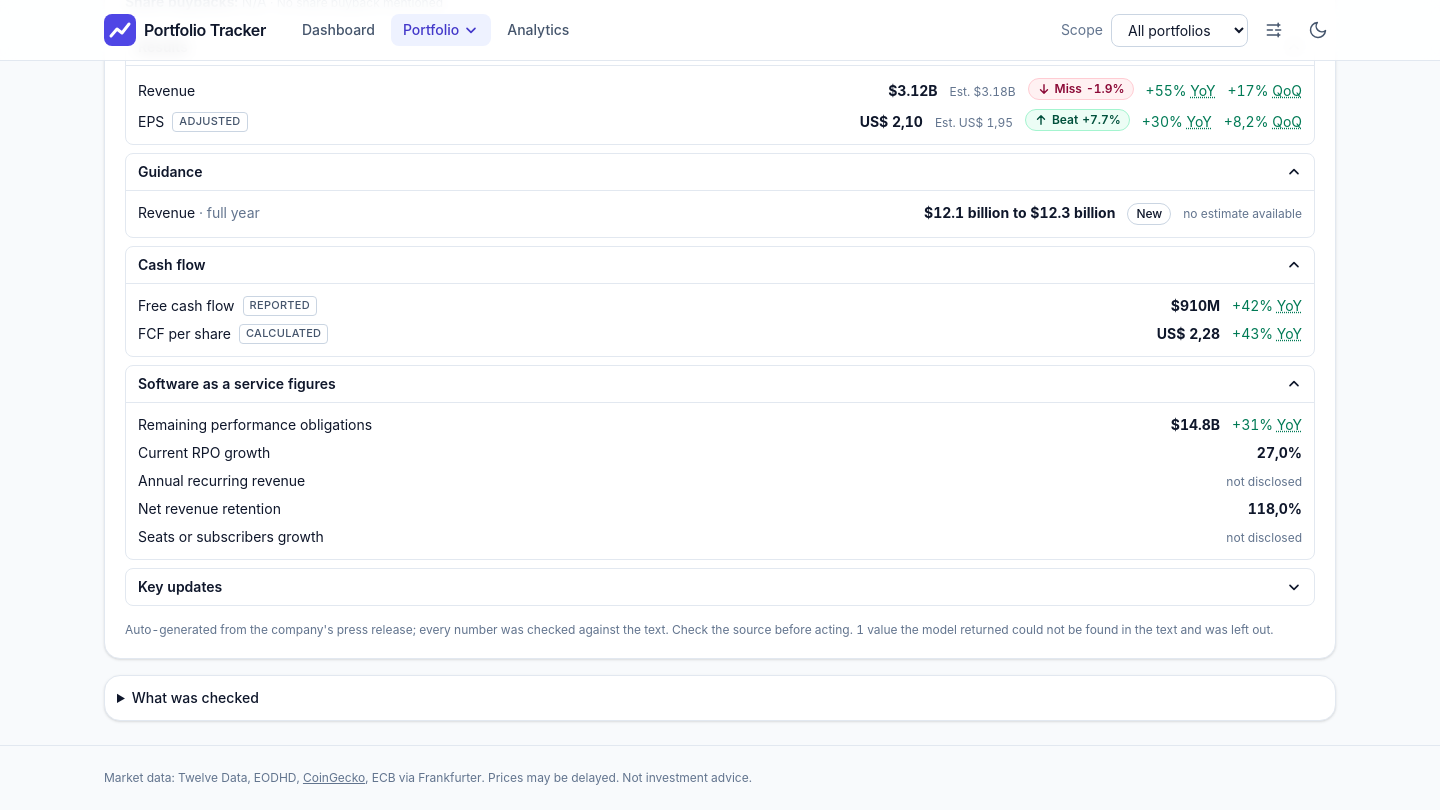
Scenario: the page › shows the invented consensus of the demo with its source, range and analysts, and how many companies have it
(page scrolled)
Click the heading "What was checked": {"x": 195, "y": 698} [132,689,259,706]
(page scrolled)
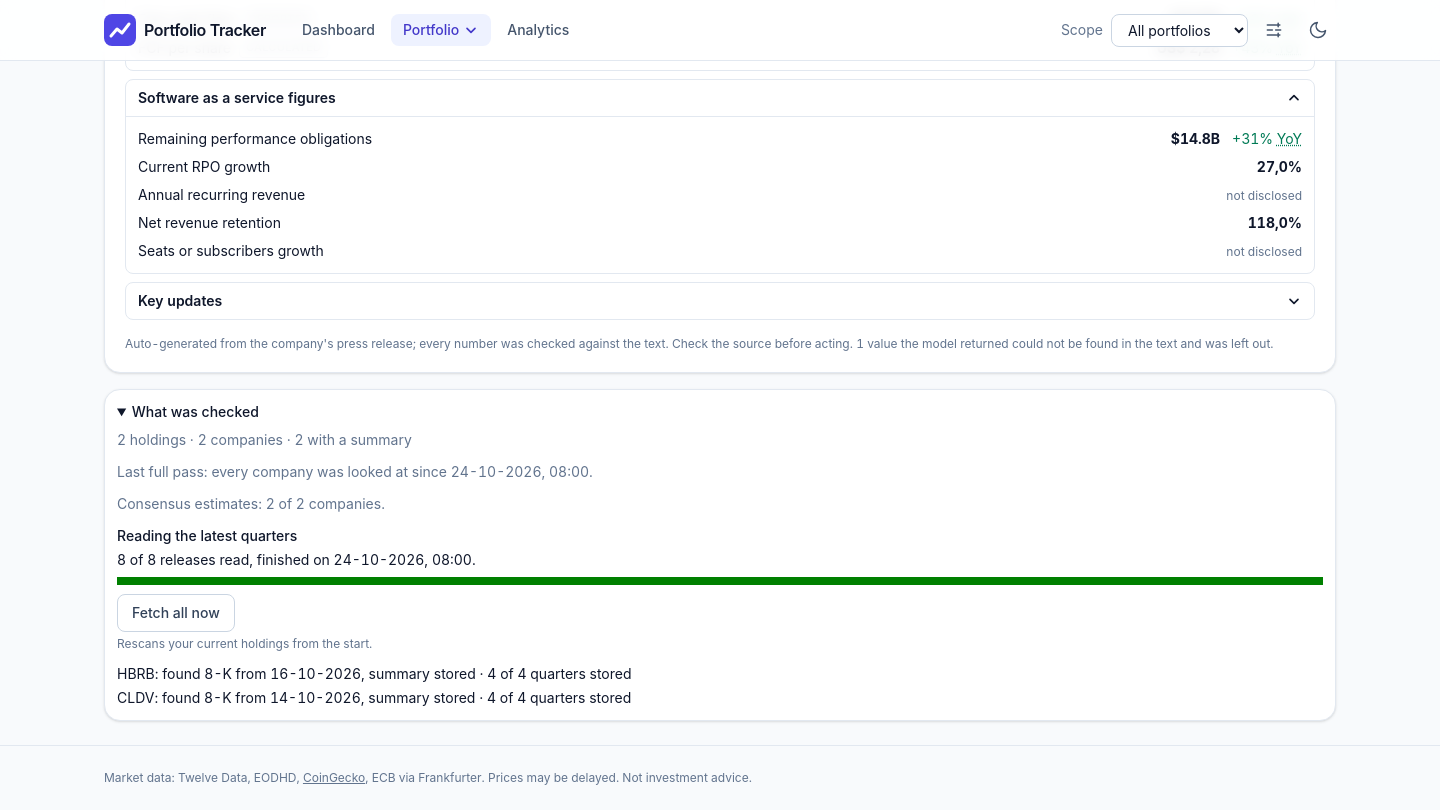
Expected: the text "Consensus estimates: 2 of 2 companies." is shown, [117,495,385,512]
